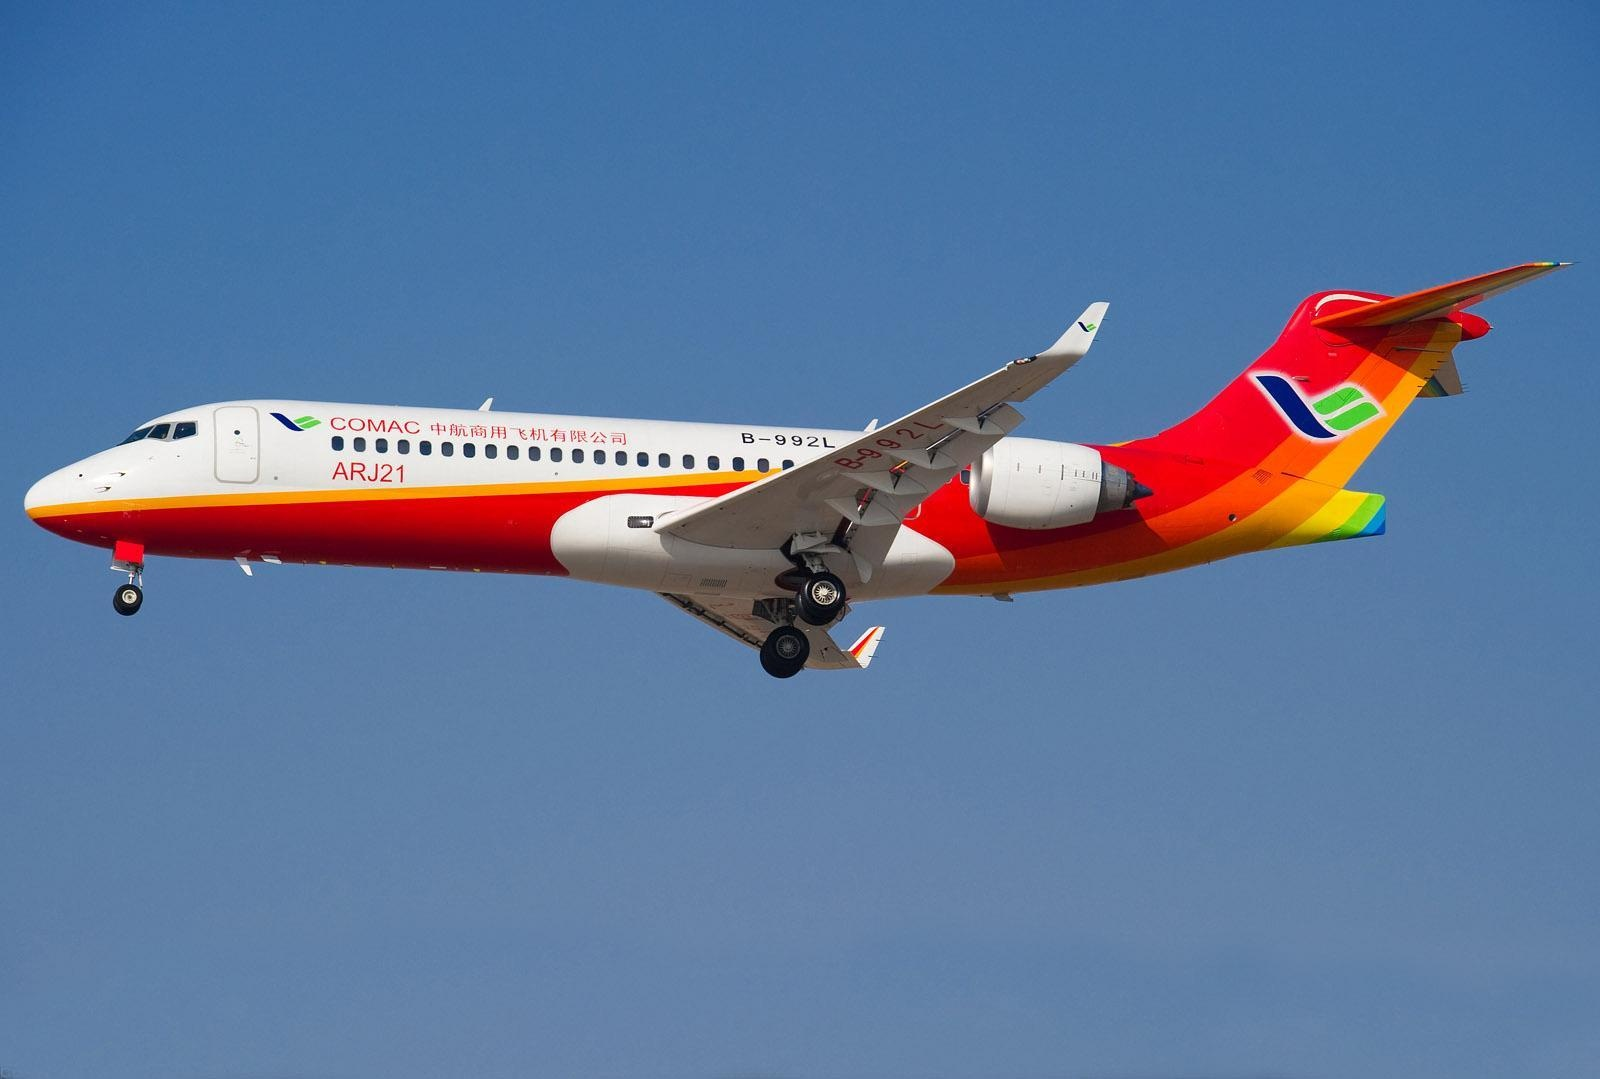airplane: (22, 238, 1600, 673)
